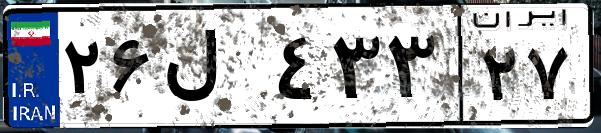2: (57, 26, 110, 100), (475, 38, 525, 113)
3: (385, 28, 445, 110), (330, 28, 385, 110)
4: (270, 28, 330, 110)
6: (110, 28, 158, 98)
7: (525, 38, 570, 115)
ل: (158, 20, 270, 120)
